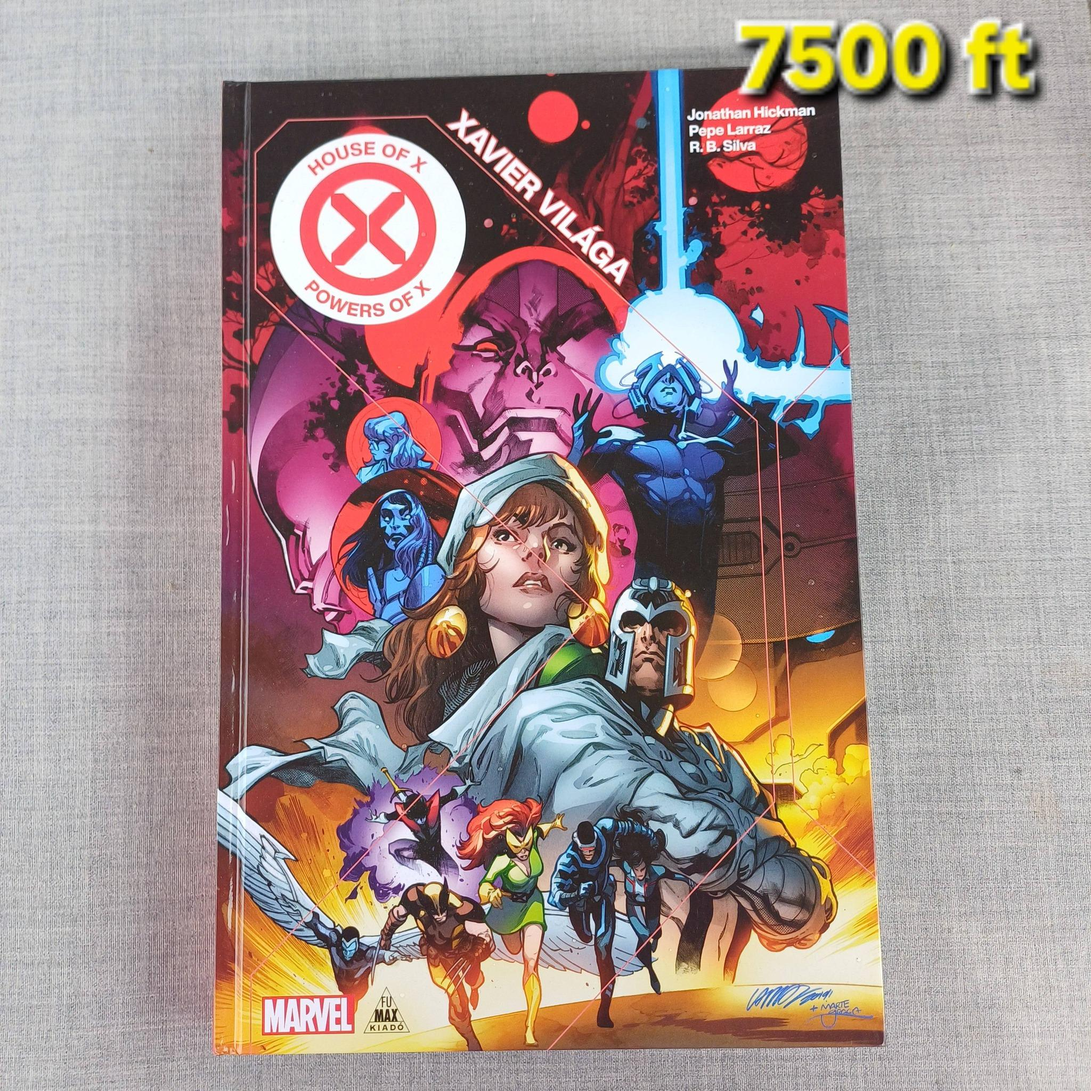comic: (186, 66, 883, 1064)
